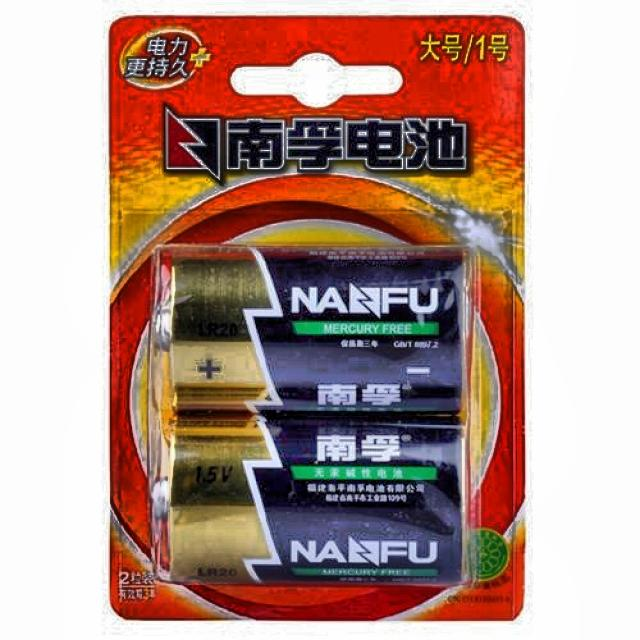Non-Valuable Waste - Batteries: (159, 249, 466, 583)
